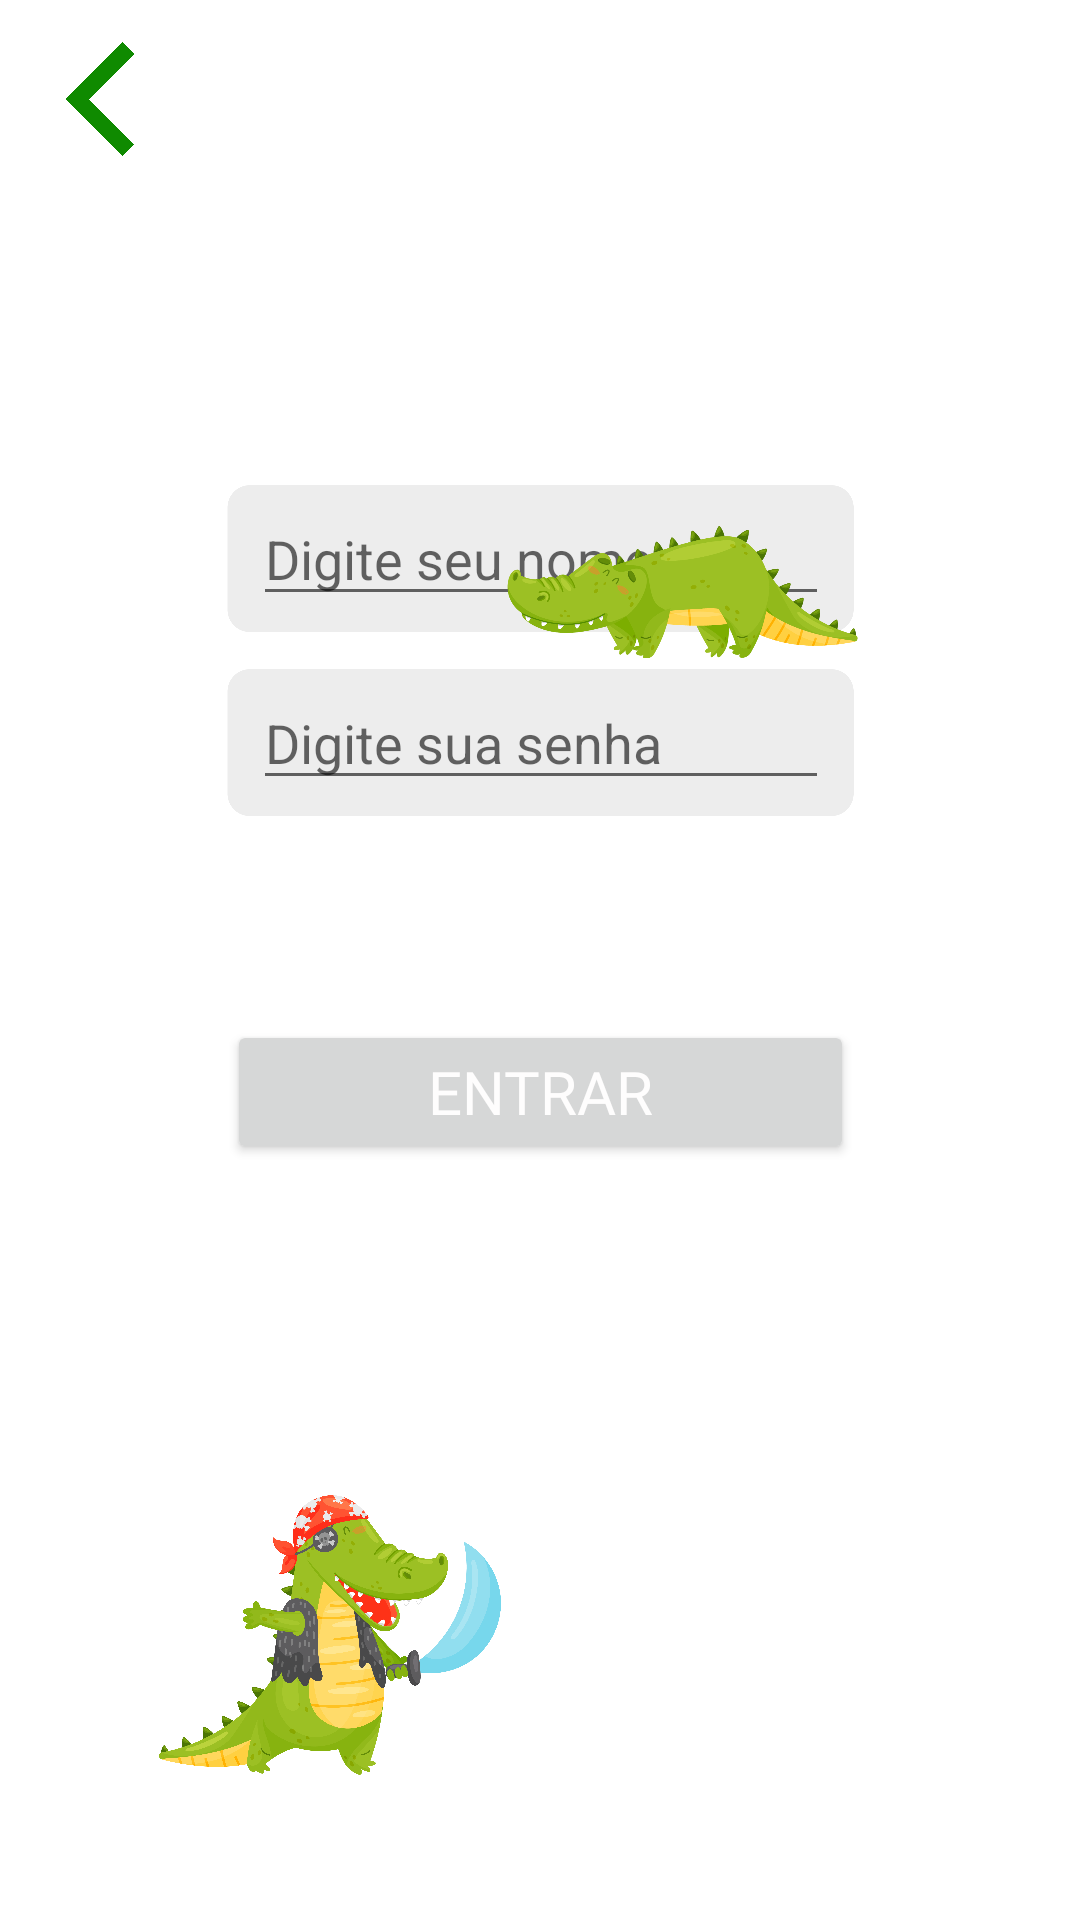

Where to tap for icons on this 1080px×1920px app screen, as (x=x, y=y):
seta verde: (x=100, y=99)
